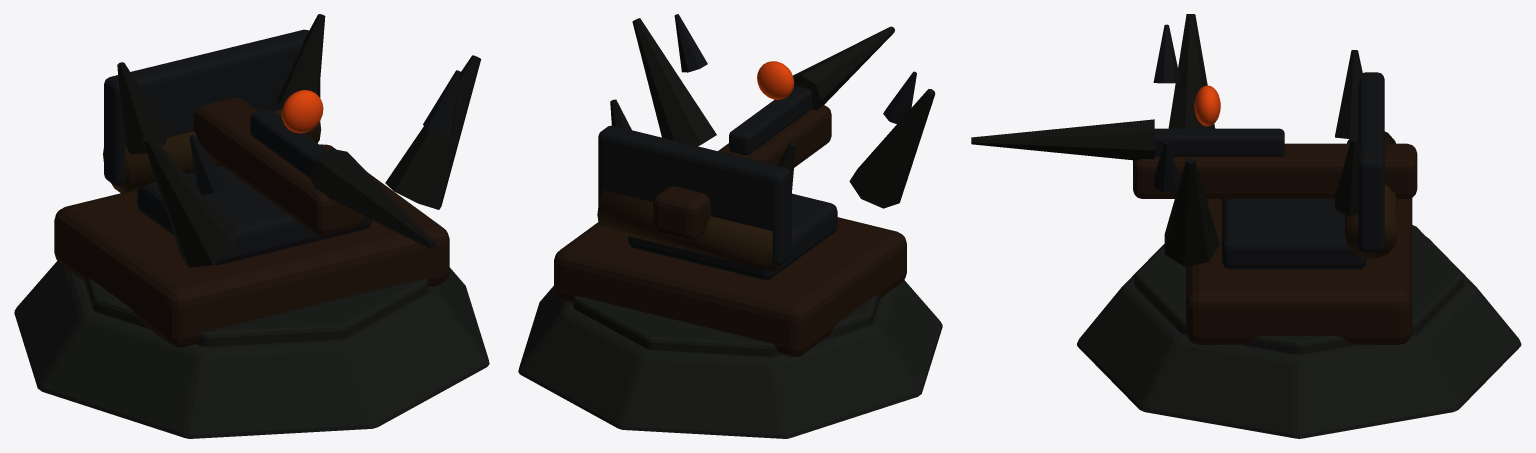
File: TowerDemon2_pose.obj
3 renders of one model, left to right at view 1: azimuth 30°, elevation 25°; view 2: azimuth 150°, elevation 25°; view 3: azimuth 270°, elevation 25°, orthographic. The views are drawn at different scales.
Parts seen in each view (by area): view 1: charred_stone_footing_lower_course, dark_oak_altar_bed, iron_horn_mantle, demon_stock, charred_stone_footing_upper_course, black_iron_pivot, bone_bow_limb, bone_bow_limb.001, bone_demon_bolt, iron_demon_guide, altar_horn, bronze_blood_winch (+4 smaller); view 2: charred_stone_footing_lower_course, dark_oak_altar_bed, iron_horn_mantle, charred_stone_footing_upper_course, bronze_blood_winch, demon_stock, bone_bow_limb, bone_bow_limb.001, black_iron_pivot, bone_demon_bolt, iron_demon_guide, amber_cursed_sight (+2 smaller); view 3: charred_stone_footing_lower_course, dark_oak_altar_bed, demon_stock, black_iron_pivot, charred_stone_footing_upper_course, iron_horn_mantle, bone_demon_bolt, bone_bow_limb.001, iron_demon_guide, bone_bow_limb, bronze_blood_winch, altar_horn (+4 smaller).
Part boxes in pixels (x1,y1,x2,y2): charred_stone_footing_lower_course: (14,261,489,438); dark_oak_altar_bed: (54,144,449,347); iron_horn_mantle: (104,29,320,186); demon_stock: (194,97,365,236); charred_stone_footing_upper_course: (84,278,427,346); black_iron_pivot: (137,165,371,264); bone_bow_limb: (142,134,236,267); bone_bow_limb.001: (385,55,481,209); bone_demon_bolt: (310,149,436,249); iron_demon_guide: (250,109,327,178); altar_horn: (117,62,168,153); bronze_blood_winch: (103,109,321,192); charred_stone_footing_lower_course: (518,280,942,438); dark_oak_altar_bed: (554,217,906,356); iron_horn_mantle: (598,125,791,265); charred_stone_footing_upper_course: (573,295,879,356); bronze_blood_winch: (597,190,792,271); demon_stock: (653,105,831,240); bone_bow_limb: (849,89,935,208); bone_bow_limb.001: (632,18,716,146); black_iron_pivot: (628,193,837,280); bone_demon_bolt: (793,26,894,110); iron_demon_guide: (729,85,811,154); amber_cursed_sight: (757,61,794,99); charred_stone_footing_lower_course: (1077,237,1521,438); dark_oak_altar_bed: (1186,198,1412,344); demon_stock: (1133,143,1417,198); black_iron_pivot: (1222,199,1366,269); charred_stone_footing_upper_course: (1134,225,1463,354); iron_horn_mantle: (1358,72,1384,252); bone_demon_bolt: (971,119,1154,160); bone_bow_limb.001: (1164,156,1219,266); iron_demon_guide: (1154,128,1284,156); bone_bow_limb: (1168,14,1215,128); bronze_blood_winch: (1345,131,1397,258); altar_horn: (1335,50,1362,138).
Size of the model in its own units: 1.85 by 1.2 by 2.28.
